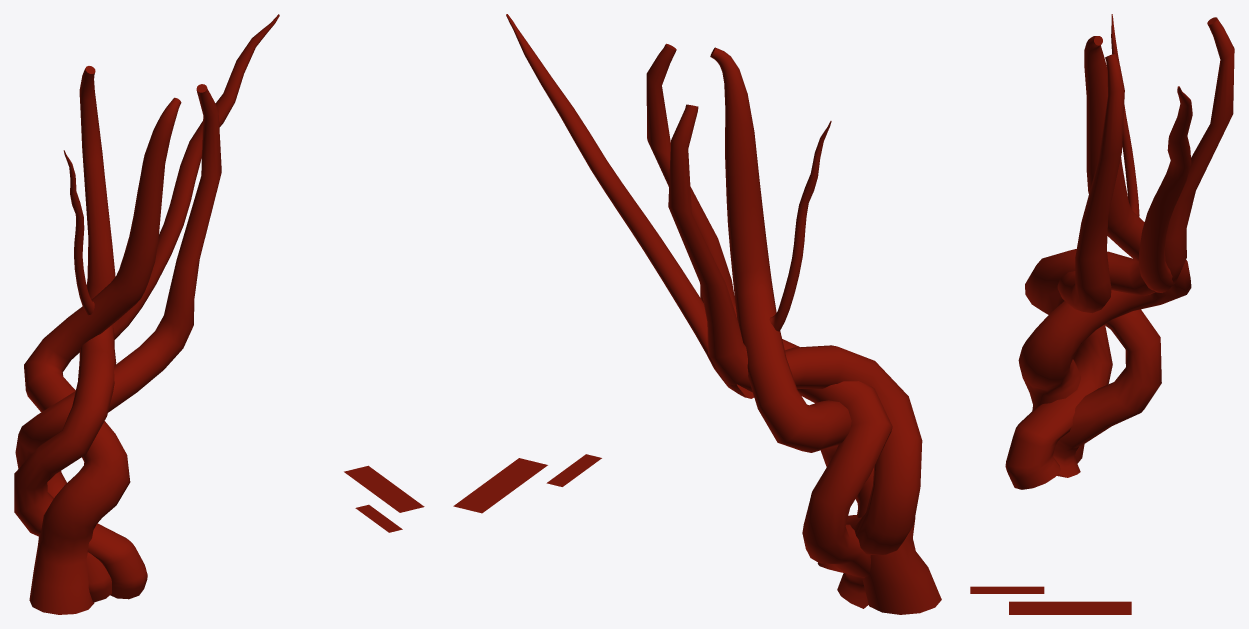
File: Racines.fbx
The picture shows the model from 3 angles, left to right: view 1: azimuth 30°, elevation 25°; view 2: azimuth 150°, elevation 25°; view 3: azimuth 270°, elevation 25°; orthographic projection. The views are drawn at different scales.
Visible parts, largest first — view 1: Grosse racine 5_low, Grosse racine_low, Grosse racine 2_low, Grosse racine 3_low, Racine 1_low, Grosse racine 4_low; view 2: Grosse racine 5_low, Grosse racine_low, Grosse racine 2_low, Grosse racine 3_low, Grosse racine 4_low, Racine 1_low, Racine 2_low; view 3: Grosse racine_low, Grosse racine 2_low, Grosse racine 5_low, Grosse racine 3_low, Racine 1_low, Grosse racine 4_low, Racine 2_low.
Boxes of the visible parts, x1,y1,x2,y2 form: Grosse racine 5_low: (24, 97, 181, 614); Grosse racine_low: (14, 66, 147, 599); Grosse racine 2_low: (15, 84, 221, 602); Grosse racine 3_low: (113, 14, 279, 339); Racine 1_low: (344, 465, 424, 512); Grosse racine 4_low: (63, 150, 94, 315); Grosse racine 5_low: (710, 47, 941, 614); Grosse racine_low: (668, 104, 922, 572); Grosse racine 2_low: (646, 43, 892, 608); Grosse racine 3_low: (506, 14, 754, 398); Grosse racine 4_low: (769, 121, 831, 331); Racine 1_low: (453, 458, 547, 513); Racine 2_low: (546, 454, 601, 486); Grosse racine_low: (1005, 17, 1234, 489); Grosse racine 2_low: (1053, 53, 1161, 477); Grosse racine 5_low: (1018, 36, 1191, 463); Grosse racine 3_low: (1139, 86, 1192, 292); Racine 1_low: (1009, 601, 1131, 614); Grosse racine 4_low: (1111, 14, 1139, 216); Racine 2_low: (970, 586, 1044, 593).
Bounding box in the file's own units: 353 × 432 × 198.
